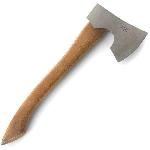Kapak: (0, 0, 150, 124)
